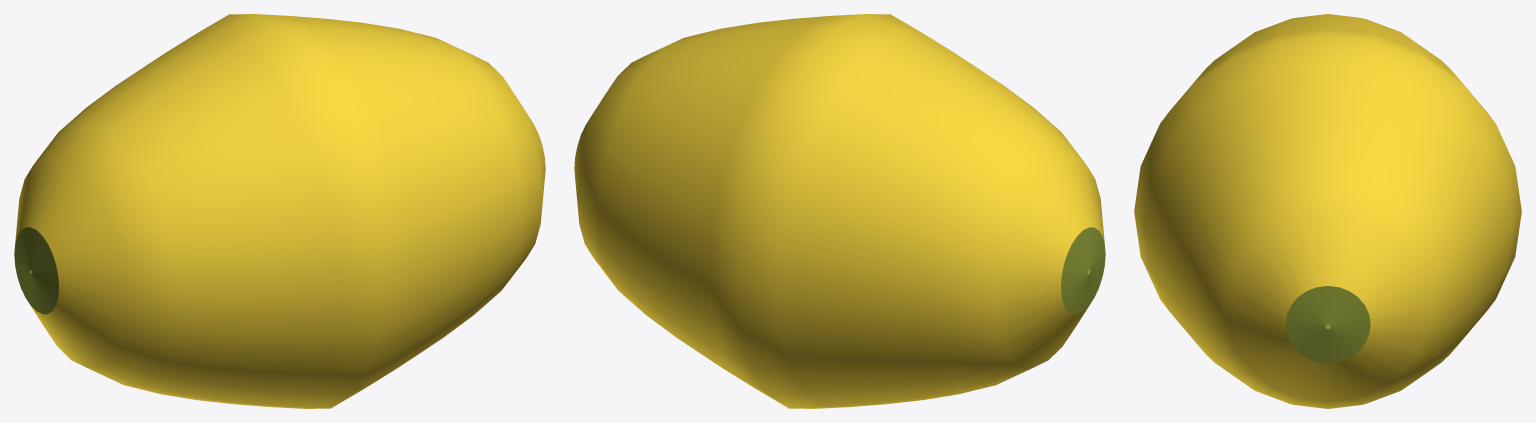
Rendered from lemon.glb.
3 views of the same model, side by side, from view 1: azimuth 30°, elevation 25°; view 2: azimuth 150°, elevation 25°; view 3: azimuth 270°, elevation 25° (orthographic). The views are drawn at different scales.
Visible parts, largest first — view 1: package_mesh; view 2: package_mesh; view 3: package_mesh.
Part boxes in pixels (box(x1,y1,x2,y2)): package_mesh: box(14, 14, 545, 408); package_mesh: box(574, 14, 1105, 408); package_mesh: box(1134, 14, 1521, 408).
Size of the model in its own units: 0.3149 by 0.2227 by 0.2227.
